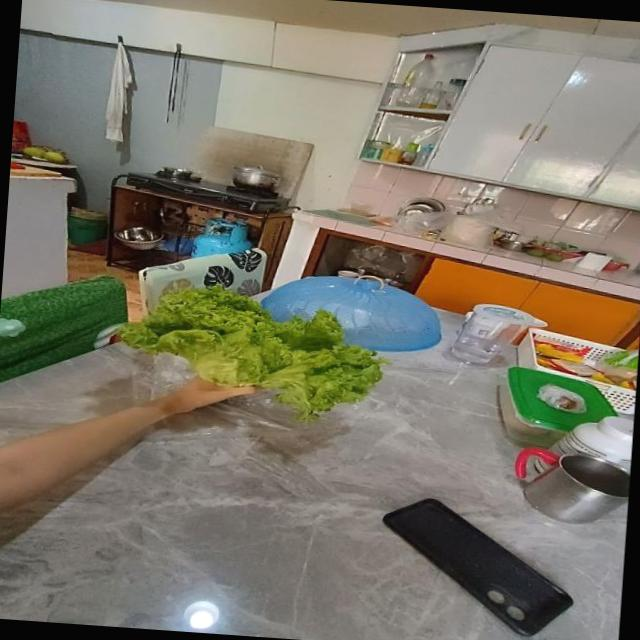Lettuce-Ready-to-Harvest: (120, 287, 382, 418)
